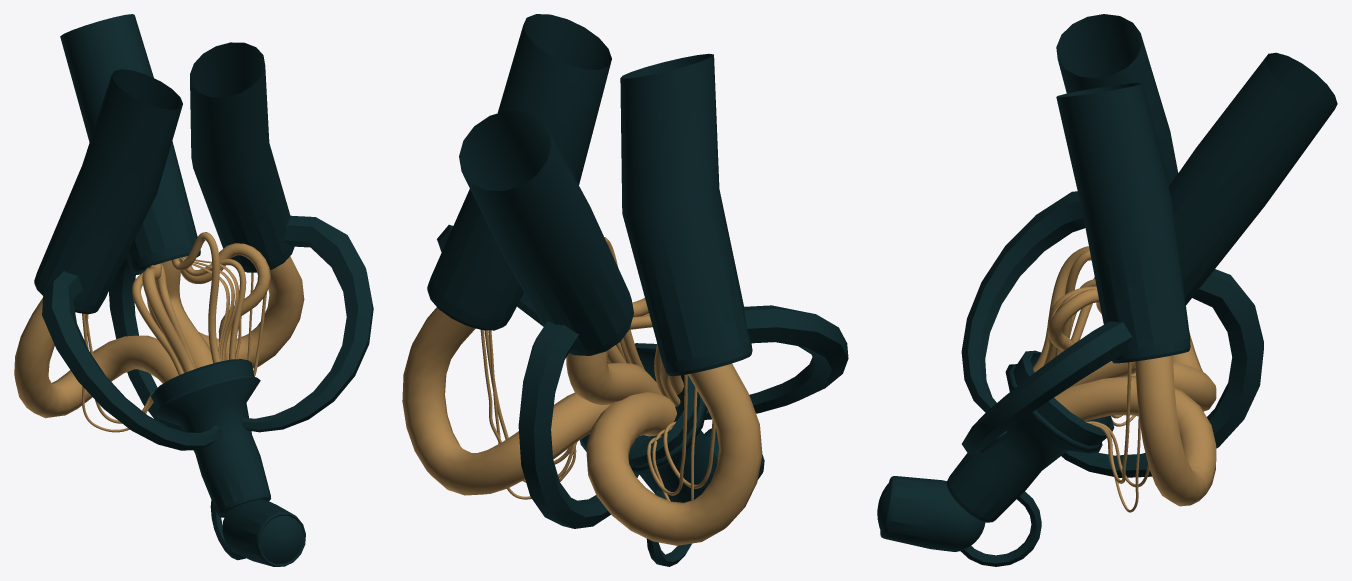
The model's file is EmojiHorror02.fbx.
The picture shows the model from 3 angles, left to right: view 1: azimuth 30°, elevation 25°; view 2: azimuth 150°, elevation 25°; view 3: azimuth 270°, elevation 25°; orthographic projection. The views are drawn at different scales.
Visible parts, largest first — view 1: pSphere6, pSphere5, pSphere3, pSphere2, pTorus3, brush7Main, pTorus5, pSphere1, brush6Main, pTorus4, birchLimb1Main, brush5Main (+7 smaller); view 2: pSphere6, pSphere3, pSphere5, brush7Main, brush6Main, pTorus4, pTorus5, pSphere2, brush5Main, birchLimb12Main, pTorus1, birchLimb11Main (+4 smaller); view 3: pSphere5, pSphere3, brush6Main, pSphere2, pTorus4, pSphere6, pTorus5, pTorus3, pSphere1, brush7Main, pTorus1, birchLimb1Main (+4 smaller).
Part boxes in pixels (x1,y1,x2,y2): pSphere6: (34, 69, 182, 314); pSphere5: (190, 42, 294, 272); pSphere3: (60, 14, 200, 274); pSphere2: (151, 359, 270, 517); pTorus3: (242, 215, 373, 432); brush7Main: (14, 298, 178, 418); pTorus5: (42, 271, 220, 450); pSphere1: (222, 499, 305, 566); brush6Main: (199, 256, 304, 368); pTorus4: (109, 256, 183, 431); birchLimb1Main: (179, 243, 270, 360); brush5Main: (147, 258, 213, 368); pSphere6: (620, 53, 752, 376); pSphere3: (459, 110, 633, 355); pSphere5: (427, 14, 611, 330); brush7Main: (586, 363, 762, 545); brush6Main: (402, 307, 610, 495); pTorus4: (518, 321, 639, 528); pTorus5: (704, 305, 848, 419); pSphere2: (580, 343, 717, 502); brush5Main: (566, 350, 661, 404); birchLimb12Main: (647, 374, 687, 495); pTorus1: (646, 490, 691, 566); birchLimb11Main: (652, 386, 697, 501); pSphere5: (1056, 83, 1190, 363); pSphere3: (1169, 52, 1337, 304); brush6Main: (1054, 355, 1216, 506); pSphere2: (946, 350, 1114, 522); pTorus4: (1061, 269, 1263, 477); pSphere6: (1056, 14, 1178, 186); pTorus5: (961, 191, 1085, 412); pTorus3: (962, 321, 1132, 454); pSphere1: (877, 476, 985, 551); brush7Main: (1131, 332, 1216, 411); pTorus1: (960, 491, 1041, 566); birchLimb1Main: (1048, 288, 1101, 351).
Bounding box in the file's own units: 331 × 466 × 379.
